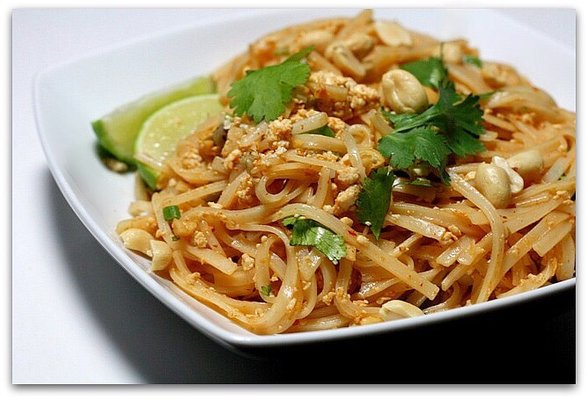sushi: (81, 15, 577, 356)
